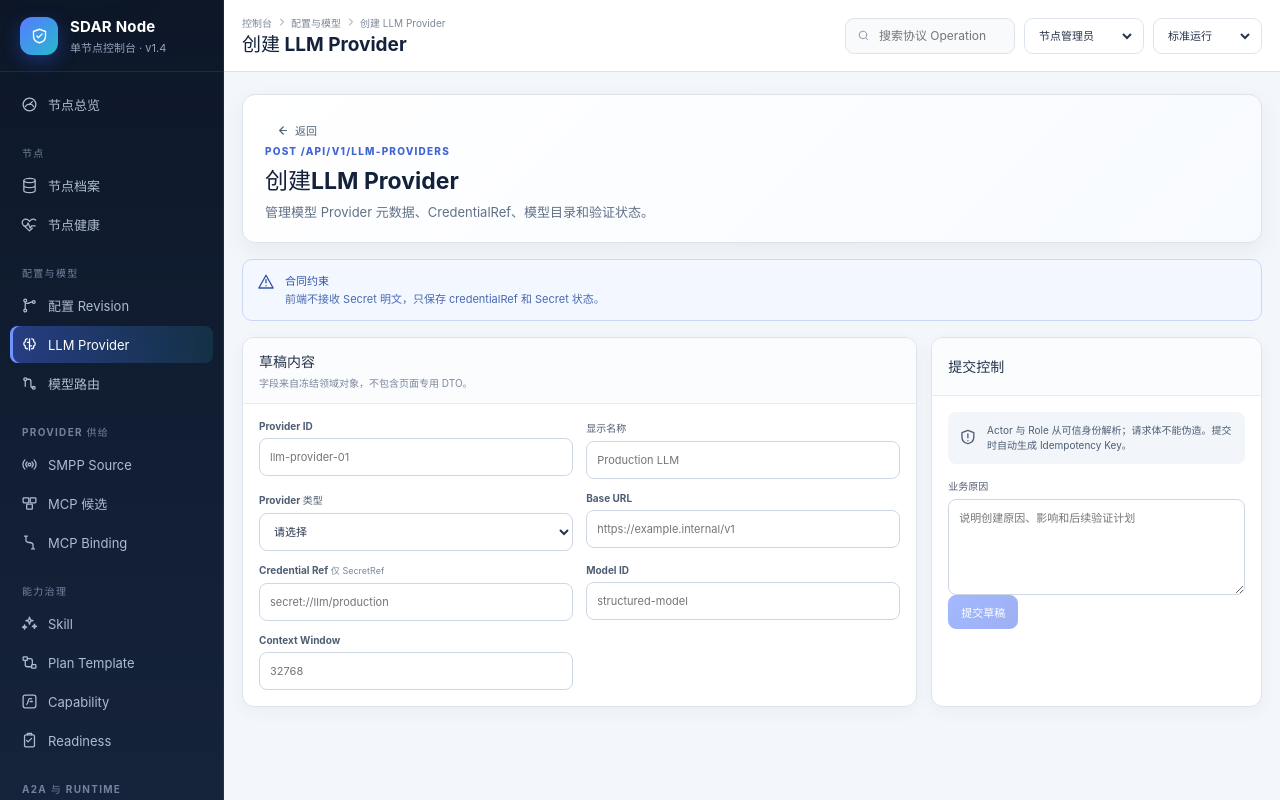
Test: single-node console product experience › enforces SecretRef validation in create flow
Step 1. Type "plaintext-secret" into the field labelled "Credential Ref 仅 SecretRef" → (416, 602), box [259,583,573,621]
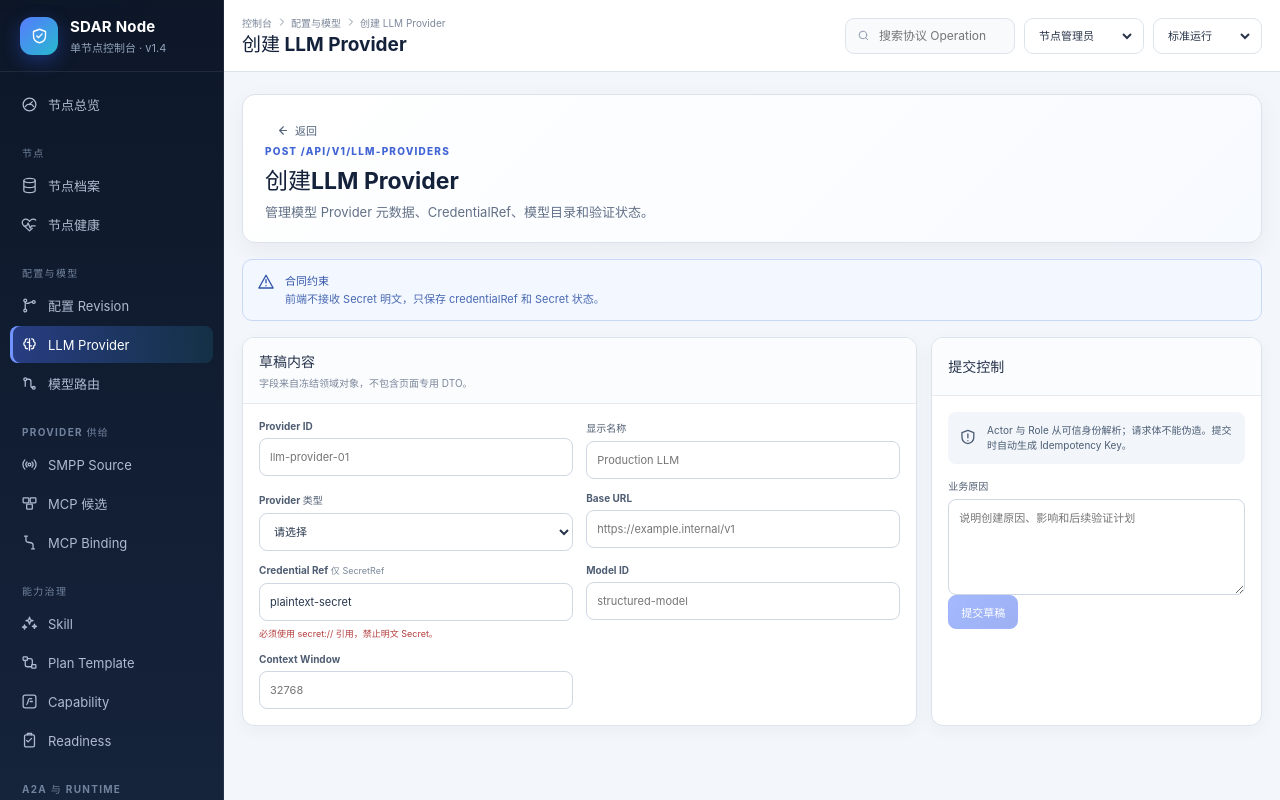
Now the text "必须使用 secret:// 引用，禁止明文 Secret。" is shown, box [259,628,438,639]
